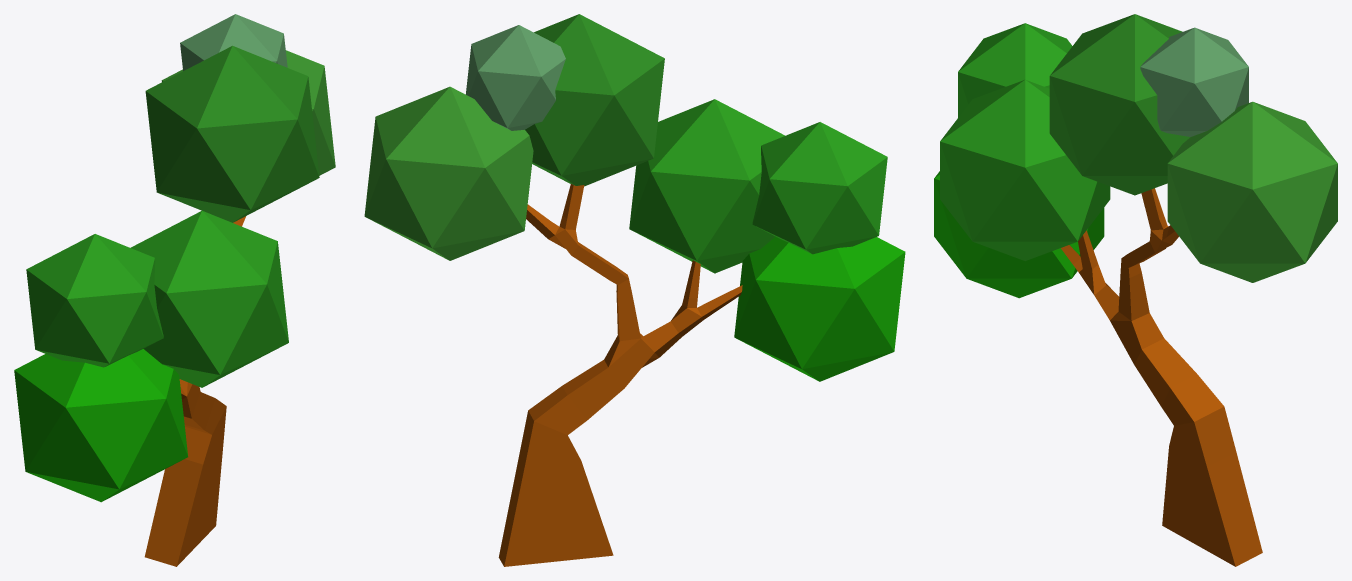
File: tree2.fbx
3 views of the same model, side by side, from view 1: azimuth 30°, elevation 25°; view 2: azimuth 150°, elevation 25°; view 3: azimuth 270°, elevation 25° (orthographic). The views are drawn at different scales.
Parts seen in each view (by area): view 1: Icosphere.004, Icosphere, Icosphere.002, Icosphere.003, Cube, Icosphere.005, Icosphere.001; view 2: Cube, Icosphere.001, Icosphere, Icosphere.002, Icosphere.004, Icosphere.003, Icosphere.005; view 3: Icosphere.001, Cube, Icosphere.002, Icosphere.004, Icosphere.005, Icosphere, Icosphere.003.
Part boxes in pixels (left/top/right/bottom): Icosphere.004: left=145, top=45, right=319, bottom=222; Icosphere: left=14, top=349, right=188, bottom=502; Icosphere.002: left=130, top=210, right=288, bottom=387; Icosphere.003: left=26, top=234, right=163, bottom=367; Cube: left=144, top=216, right=245, bottom=566; Icosphere.005: left=180, top=14, right=287, bottom=70; Icosphere.001: left=161, top=50, right=335, bottom=175; Cube: left=498, top=184, right=742, bottom=566; Icosphere.001: left=364, top=86, right=533, bottom=260; Icosphere: left=734, top=236, right=905, bottom=381; Icosphere.002: left=629, top=99, right=784, bottom=273; Icosphere.004: left=525, top=14, right=664, bottom=186; Icosphere.003: left=752, top=122, right=887, bottom=254; Icosphere.005: left=465, top=25, right=565, bottom=130; Icosphere.001: left=1167, top=101, right=1337, bottom=282; Cube: left=1061, top=188, right=1262, bottom=566; Icosphere.002: left=940, top=79, right=1110, bottom=260; Icosphere.004: left=1049, top=14, right=1190, bottom=195; Icosphere.005: left=1140, top=27, right=1248, bottom=136; Icosphere: left=934, top=171, right=1104, bottom=298; Icosphere.003: left=958, top=23, right=1072, bottom=117.
Bounding box in the file's own units: 494 × 409 × 602.
